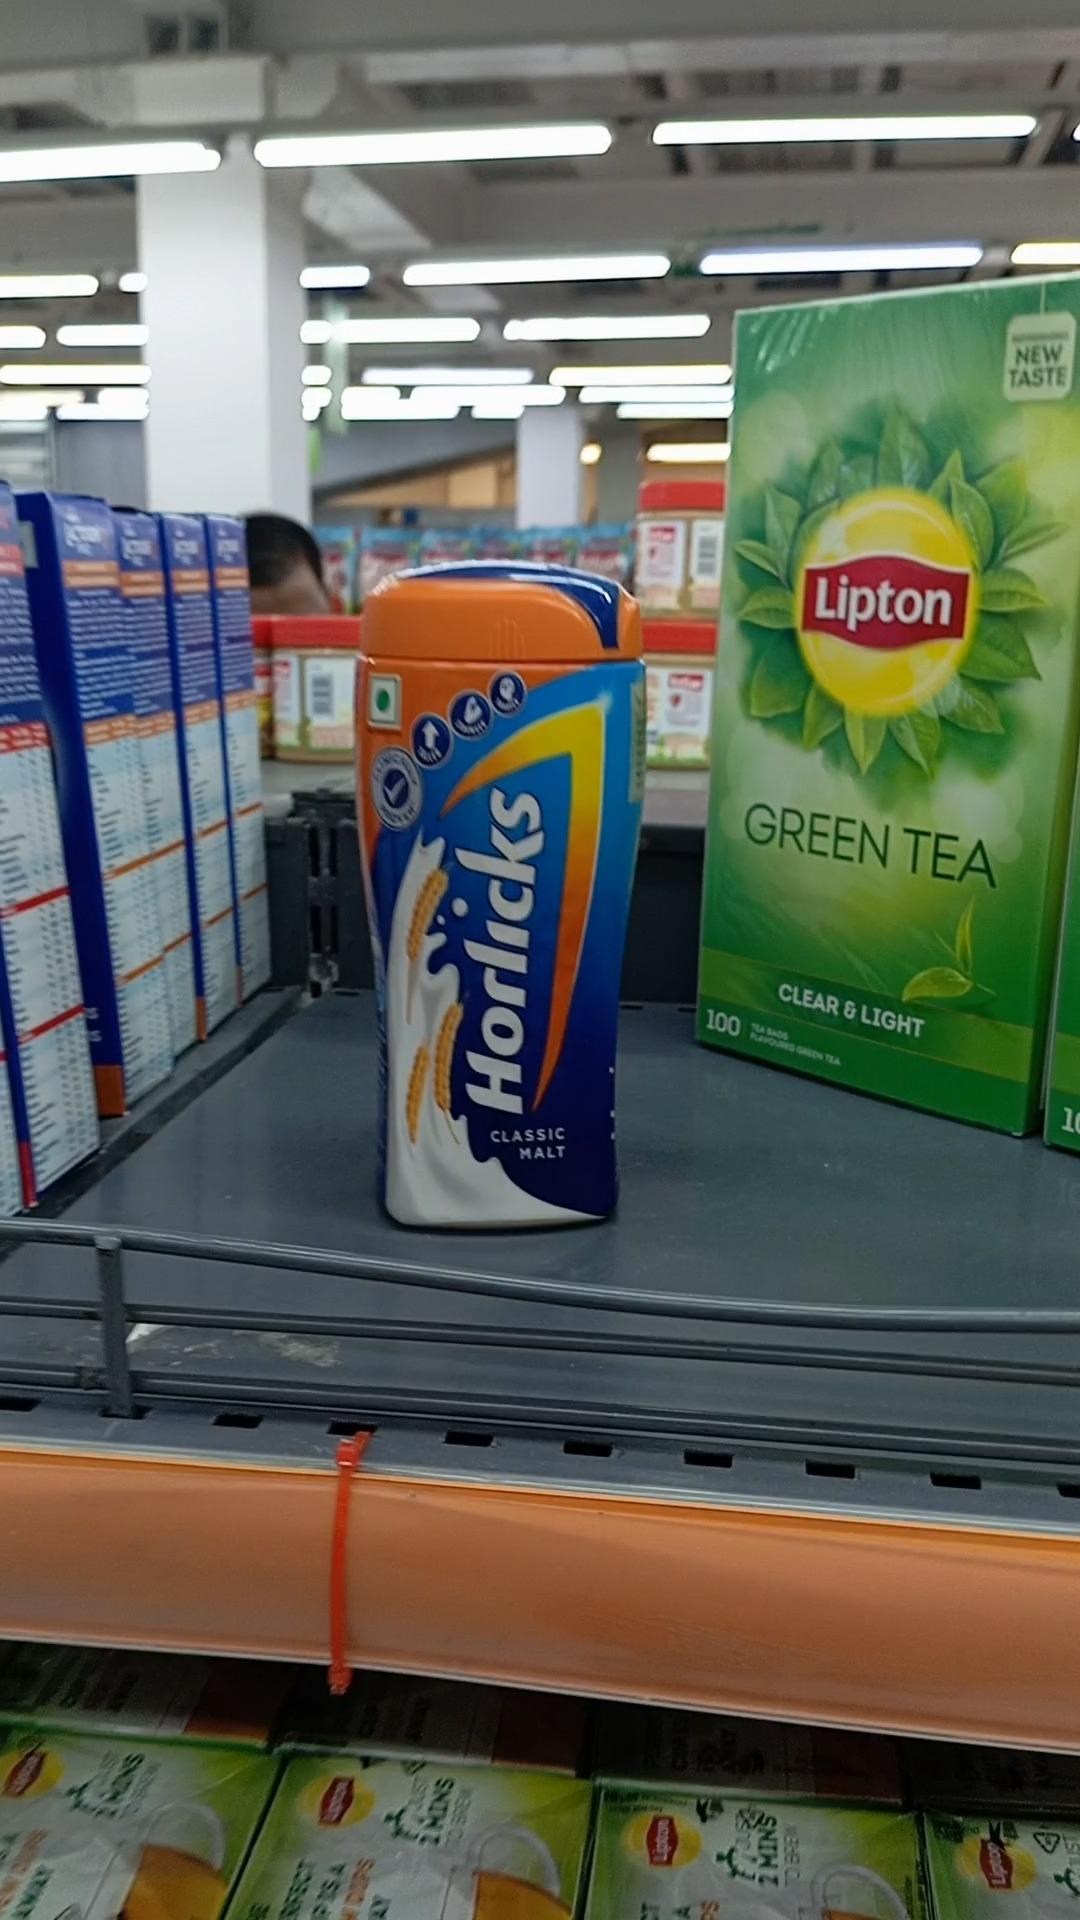HORLICK_CLASSIC_MALT_200_G_JAR: (365, 545, 624, 1234)
